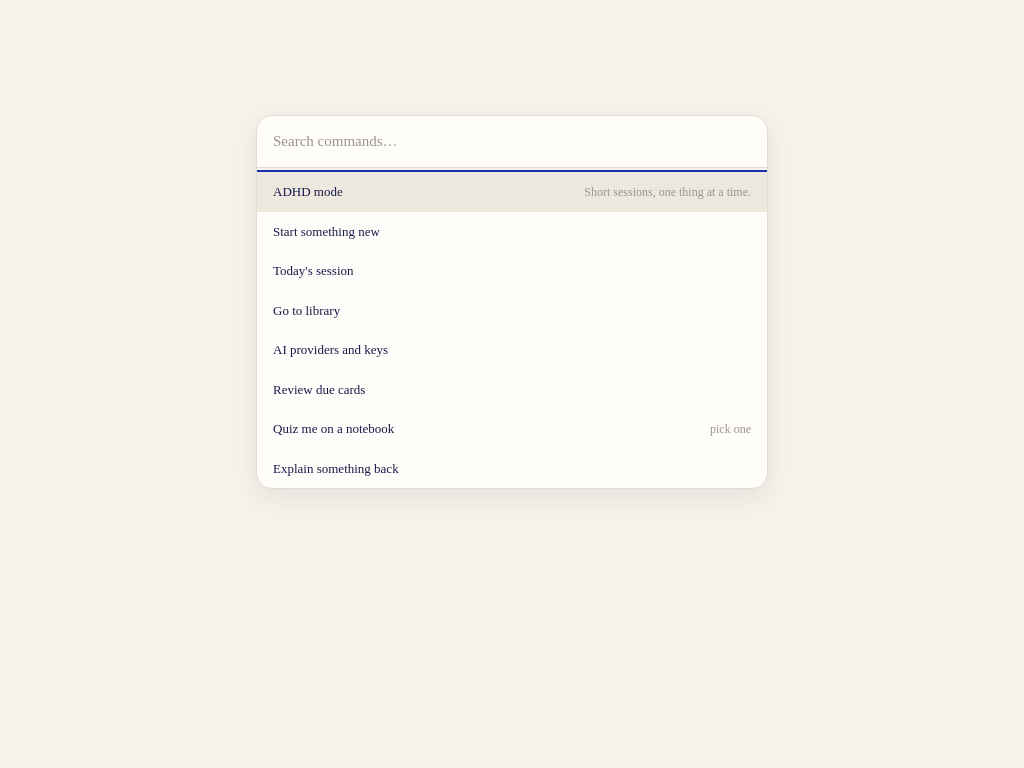
Test: CommandPalette › filters commands as you type, case-insensitively
The image size is (1024, 768).
Type "LIBRARY" into the field. click: (512, 142)
box: x1=257 y1=116 x2=767 y2=168
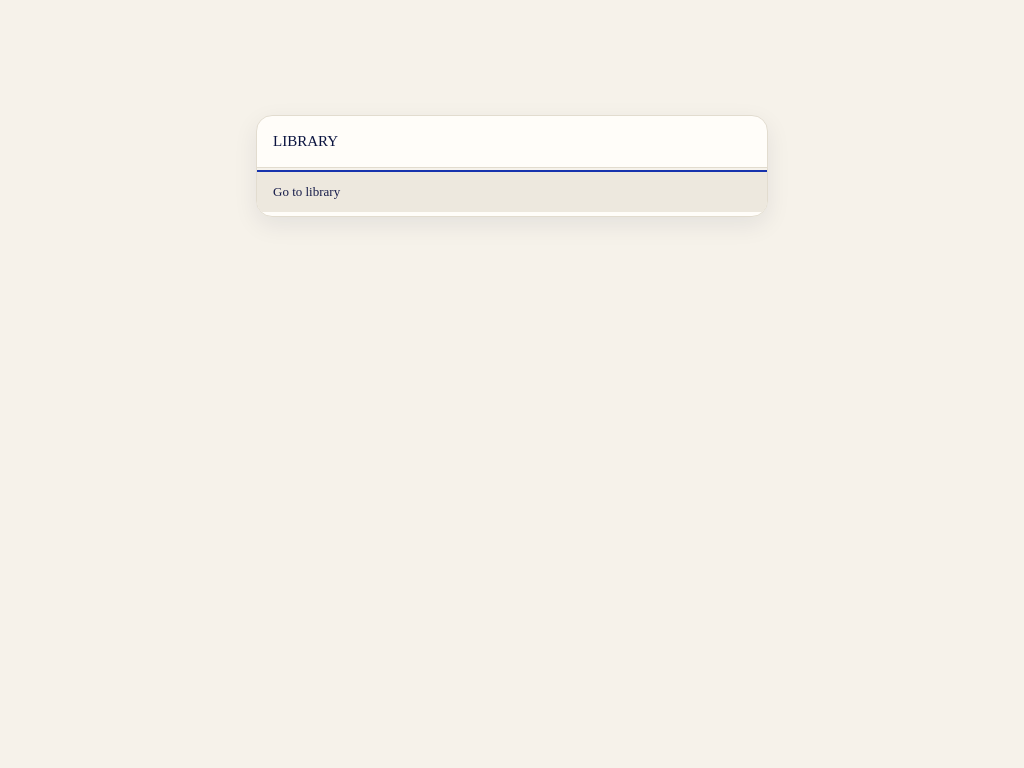
Expected: the button shows "library", x1=257 y1=172 x2=767 y2=212
Now the number of buttons is 1, box x1=257 y1=172 x2=767 y2=212
